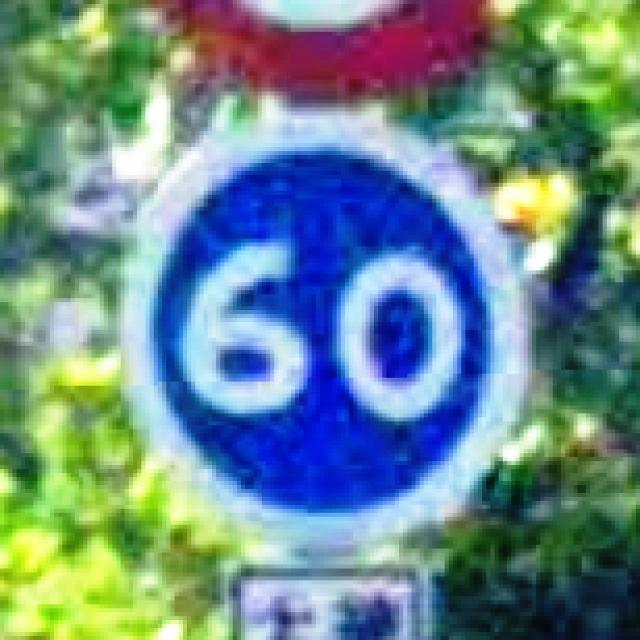min60: (112, 100, 536, 548)
